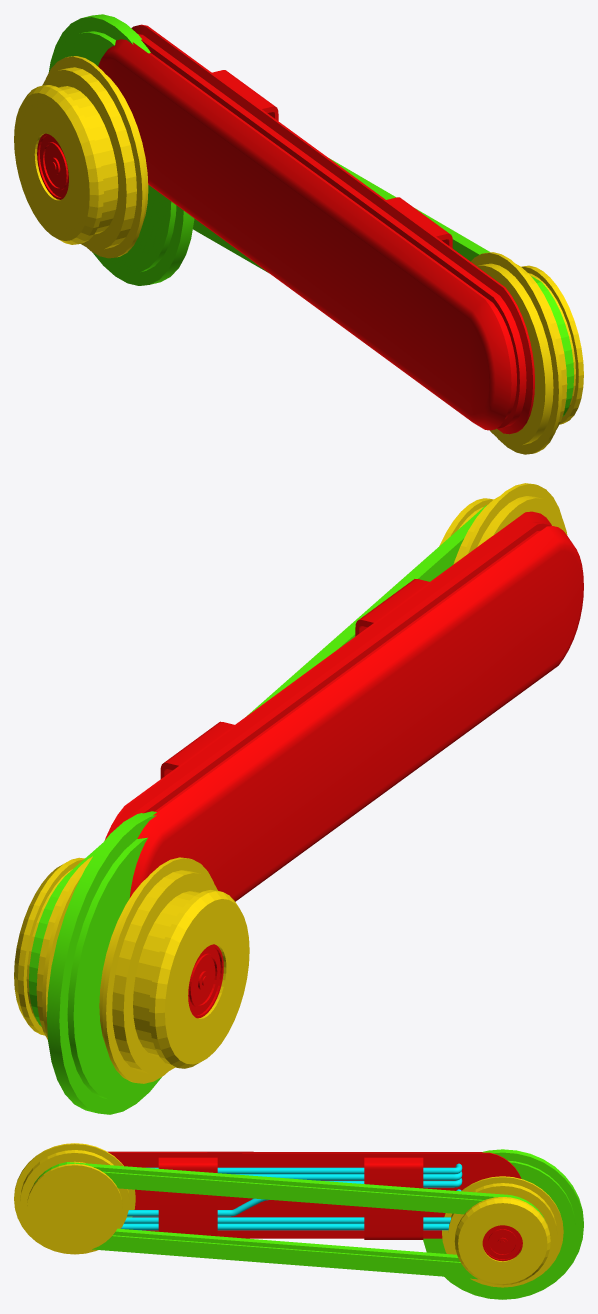
File: Arm02.fbx
The picture shows the model from 3 angles, top to bottom: view 1: azimuth 30°, elevation 25°; view 2: azimuth 150°, elevation 25°; view 3: azimuth 270°, elevation 25°; orthographic projection. The views are drawn at different scales.
Parts seen in each view (by area): view 1: Arm02; view 2: Arm02; view 3: Arm02.
Part boxes in pixels (left/top/right/bottom): Arm02: left=14, top=14, right=583, bottom=454; Arm02: left=14, top=483, right=583, bottom=1114; Arm02: left=14, top=1143, right=583, bottom=1299.
Bounding box in the file's own units: 0.0651 × 0.1266 × 0.4039.
